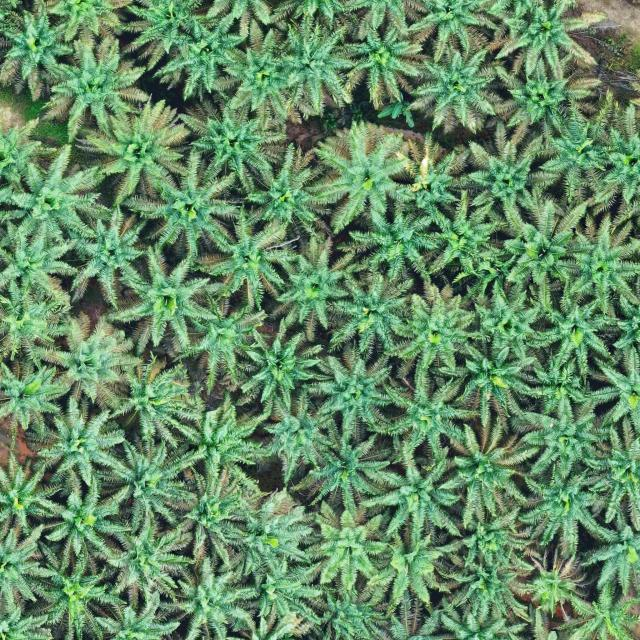Tree: (102, 238, 221, 359), (124, 143, 243, 259), (72, 89, 190, 205), (0, 139, 114, 257), (36, 27, 152, 142), (30, 307, 144, 417), (438, 413, 542, 529), (312, 117, 416, 232), (357, 436, 466, 543), (179, 92, 288, 195), (172, 287, 270, 397), (488, 46, 605, 138), (402, 34, 508, 134), (173, 388, 270, 497), (294, 409, 394, 514), (218, 484, 316, 589), (240, 135, 334, 244), (24, 544, 130, 640), (465, 119, 562, 223), (220, 14, 308, 128), (108, 348, 206, 449), (488, 0, 610, 81), (104, 433, 201, 534), (376, 364, 480, 458), (28, 395, 132, 489), (386, 273, 483, 372), (202, 212, 298, 308), (100, 508, 196, 604), (38, 470, 136, 564), (148, 12, 250, 102), (61, 203, 150, 306), (276, 8, 360, 116), (536, 99, 622, 203), (269, 230, 350, 340), (304, 346, 402, 436), (512, 390, 611, 479), (337, 12, 426, 111), (496, 198, 596, 286), (336, 201, 450, 278), (173, 458, 254, 566), (236, 320, 325, 418), (561, 206, 640, 316), (303, 495, 392, 591), (324, 267, 419, 356), (358, 522, 452, 611), (526, 289, 622, 375), (432, 501, 535, 581), (419, 189, 505, 284), (0, 0, 79, 103), (517, 461, 607, 548), (173, 554, 261, 640), (255, 394, 339, 484), (228, 551, 324, 628), (0, 218, 80, 310), (464, 272, 543, 365), (456, 340, 540, 427), (433, 553, 537, 620), (397, 127, 472, 215), (512, 540, 595, 619), (522, 346, 594, 423), (302, 586, 390, 640)
